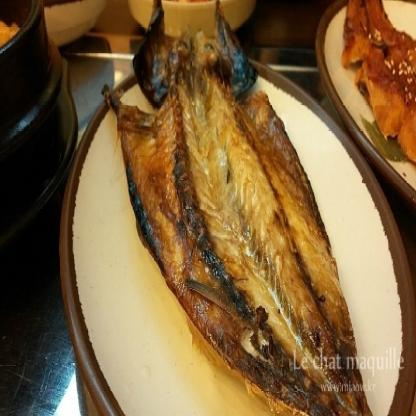Peixe: (111, 0, 372, 416)
